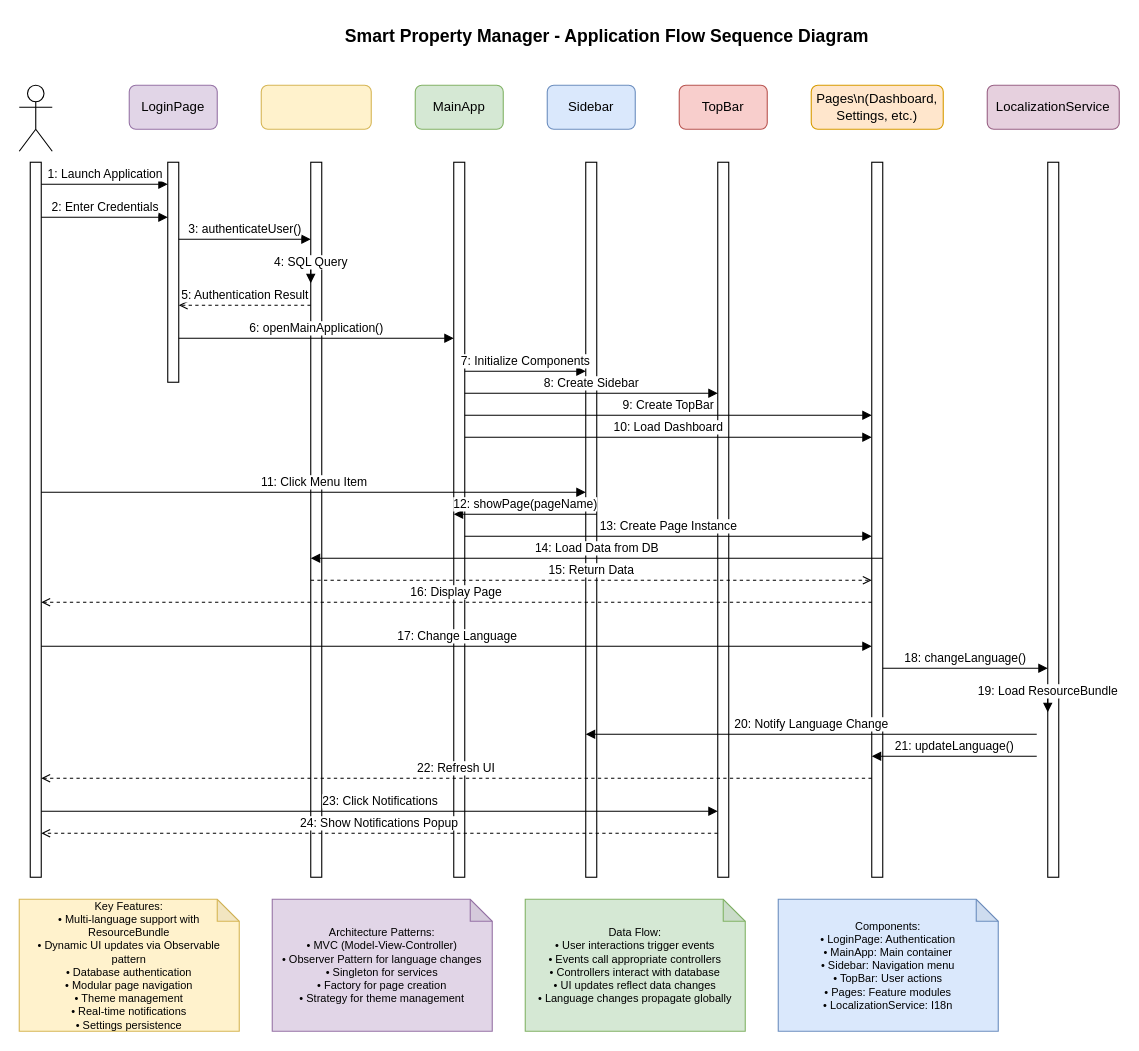
Some shapes in this 1139 by 1051 pixel diagram are drawn without their labels. The shapes that lost their labels are listed below. From the top down, each one's box as (x1, y1, x2, y2) in pixels, then its label:
(18, 84, 52, 151): User
(260, 84, 371, 129): DatabaseManager
